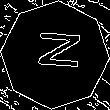N_W: (28, 33, 82, 77)
